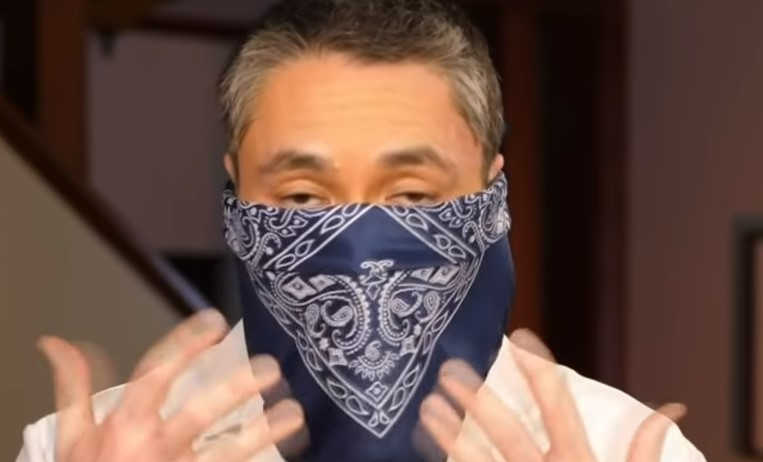face_with_mask: (219, 34, 515, 419)
